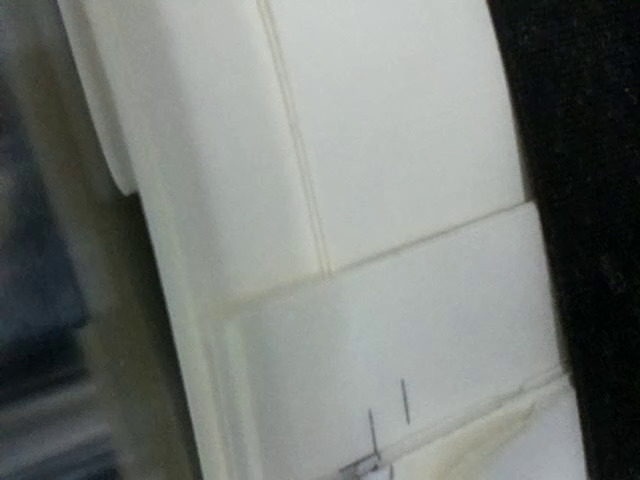misaligned: (323, 407, 396, 477)
